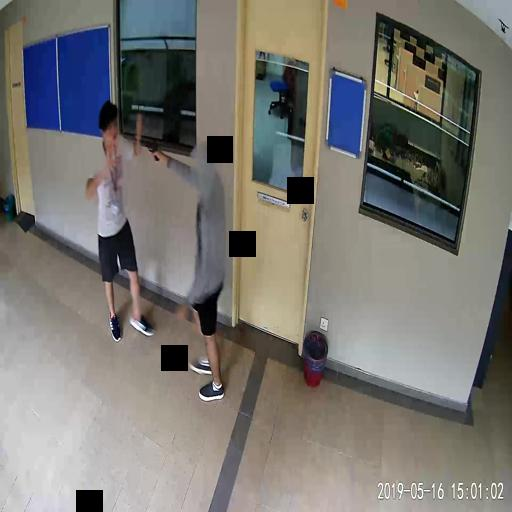Handgun: (138, 137, 159, 160)
